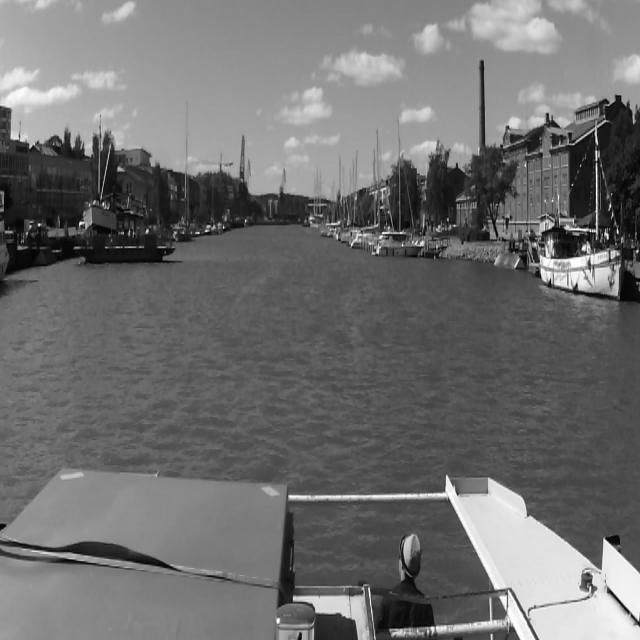ship: (533, 111, 619, 305), (377, 113, 423, 256), (77, 212, 177, 258), (351, 148, 385, 249), (173, 101, 195, 240), (328, 154, 351, 236), (308, 166, 328, 227)
